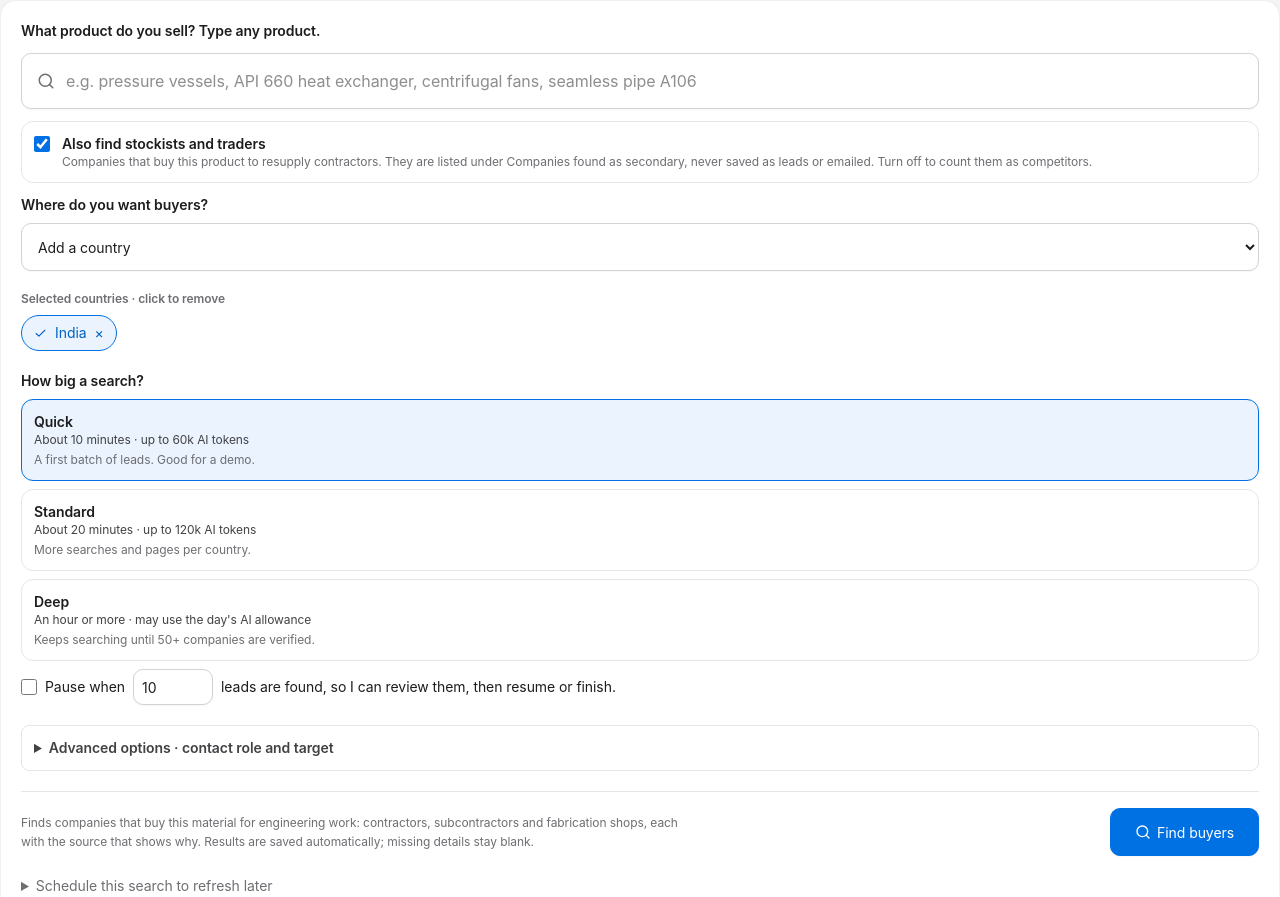
Test case: bounded material research form › shows the exact variant typed and sends the stockist choice (docs/mvp/19)
This screenshot has width=1280, height=897.
Replace the text in the search field labelled "What product do you sell? Type any product." with "Welded Stainless Steel Pipes 316L" at x=640, y=81, box x1=21 y1=53 x2=1259 y2=109
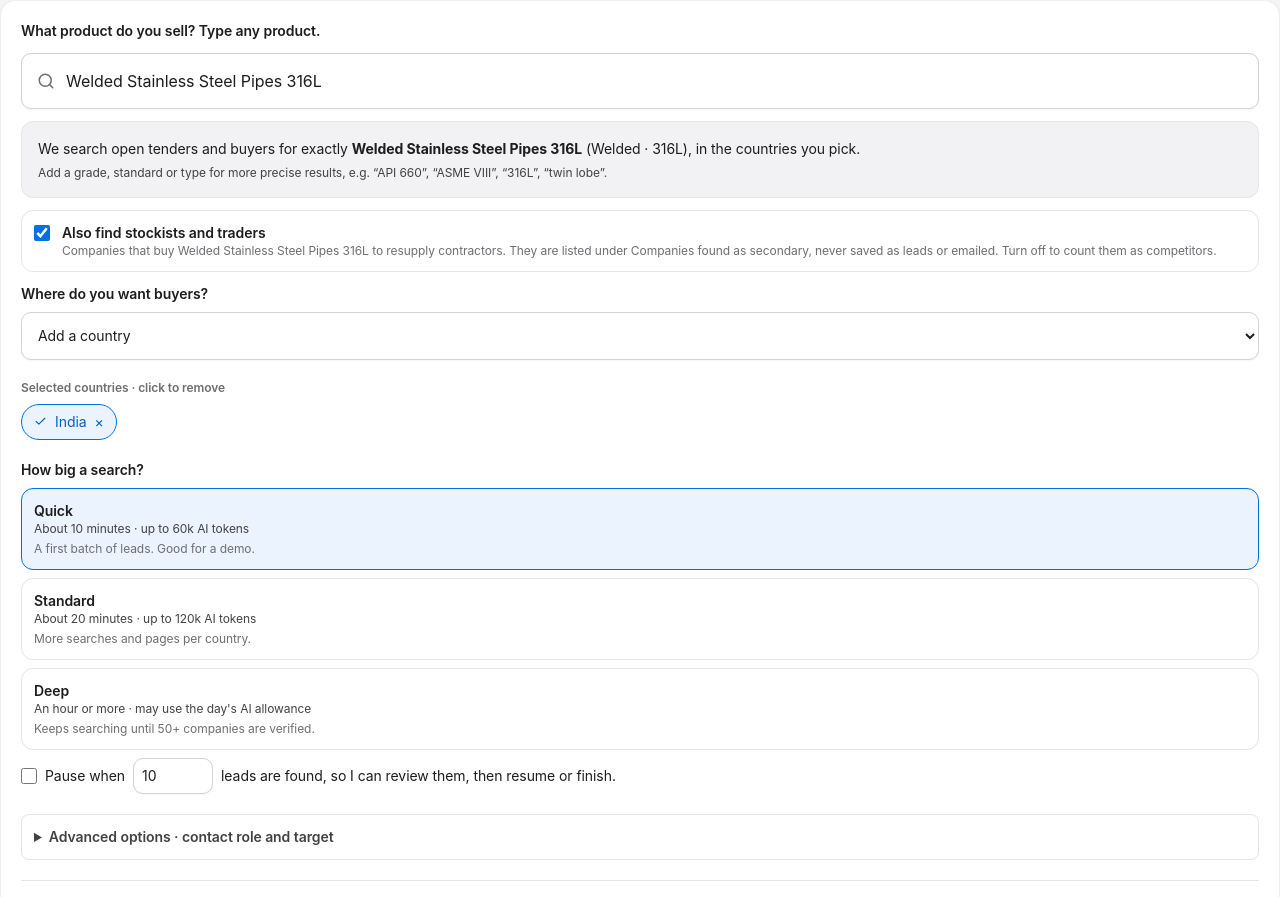
Now the text "We search open tenders and buyers for exactly" shows "Welded · 316L", box x1=591 y1=140 x2=683 y2=157
Click the checkbox labelled "Also find stockists and traders".
click(42, 233)  # box x1=34 y1=225 x2=50 y2=241
(page scrolled)
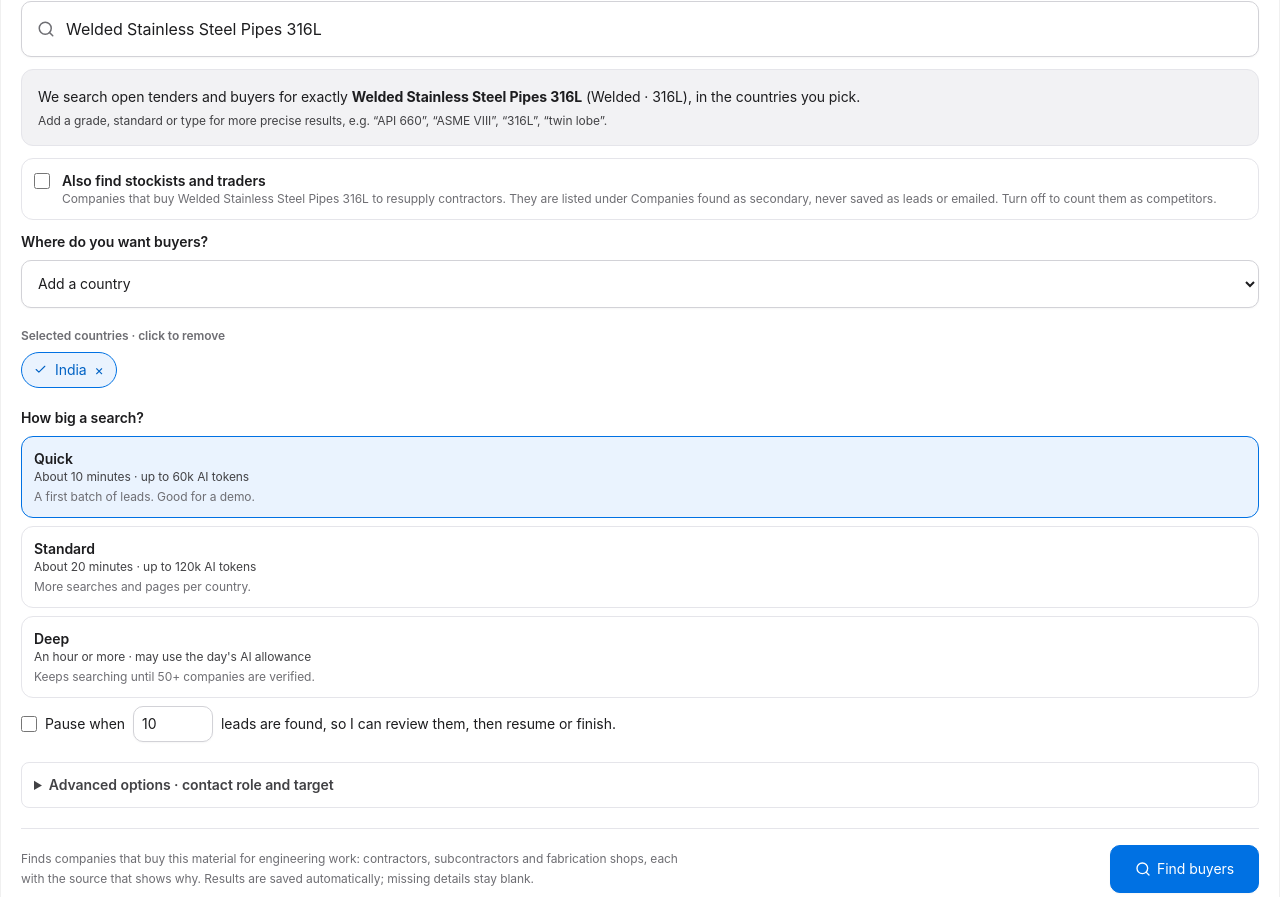
Submit the form named "Search for opportunities"
(page scrolled)
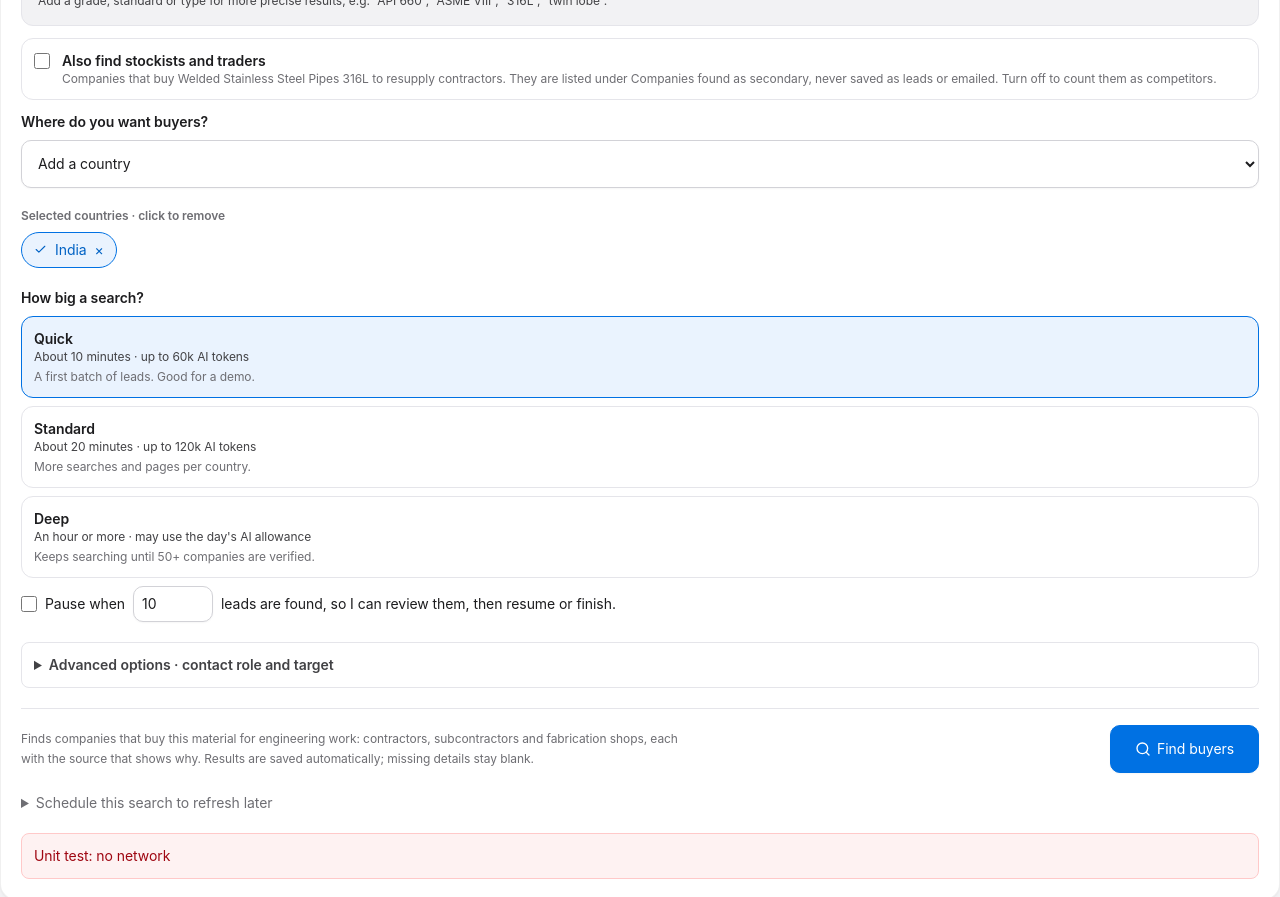
Now the message "Unit test: no network" is shown, box x1=21 y1=833 x2=1259 y2=879
